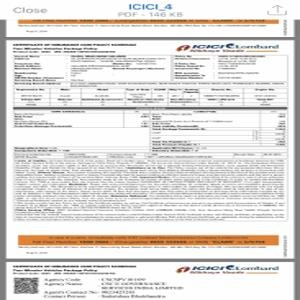image: (175, 261, 281, 279), (174, 40, 282, 54)
table: (11, 106, 288, 161), (14, 84, 288, 106)
text: (12, 162, 286, 221), (14, 55, 287, 81), (43, 275, 184, 300), (10, 40, 139, 57)
